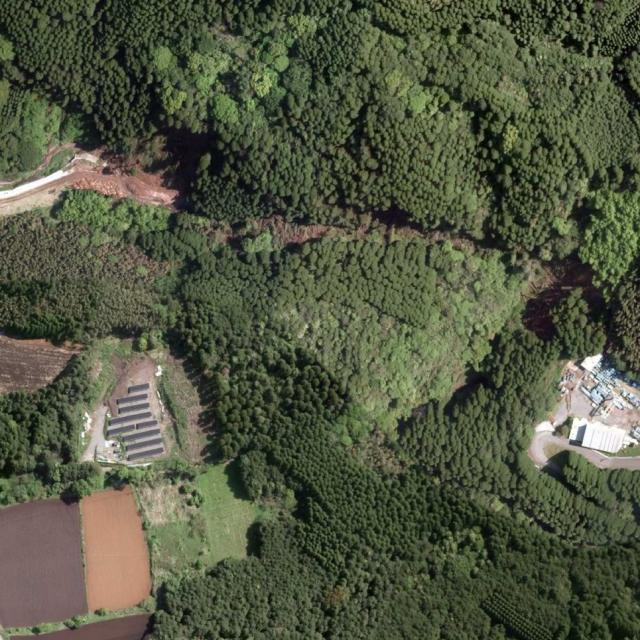landslide: (0, 169, 177, 216)
